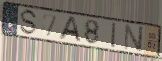7: (42, 13, 58, 38)
8: (82, 19, 101, 46)
A: (57, 16, 83, 44)
I: (110, 21, 117, 50)
N: (122, 23, 145, 54)
S: (18, 9, 39, 37)
